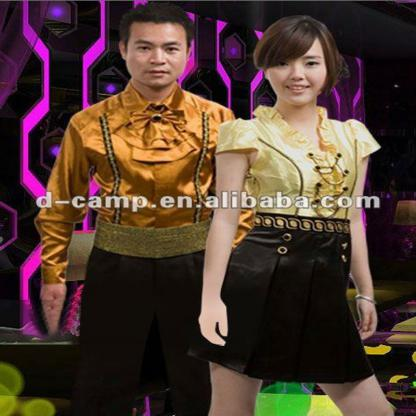face: (127, 22, 188, 86), (271, 40, 330, 103)
